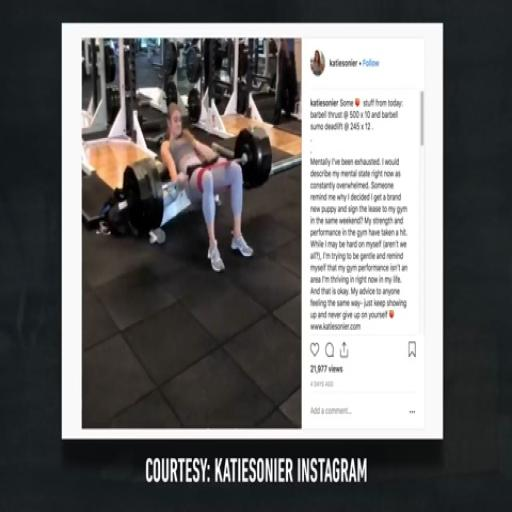exercise: (158, 101, 256, 274)
